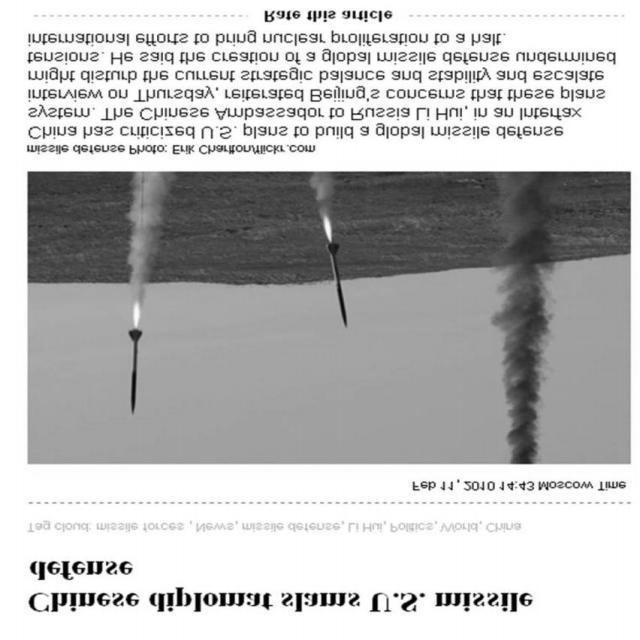missile: (323, 234, 356, 330), (124, 322, 142, 418)
